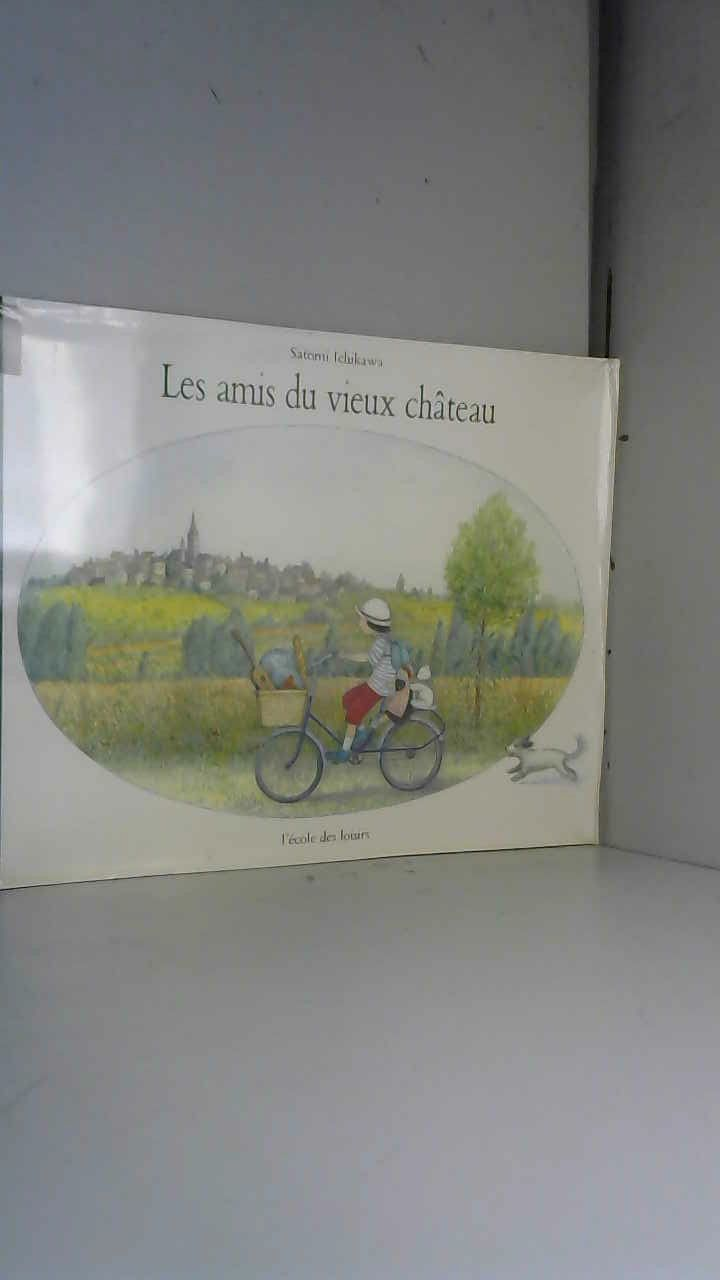book: (0, 266, 646, 924)
